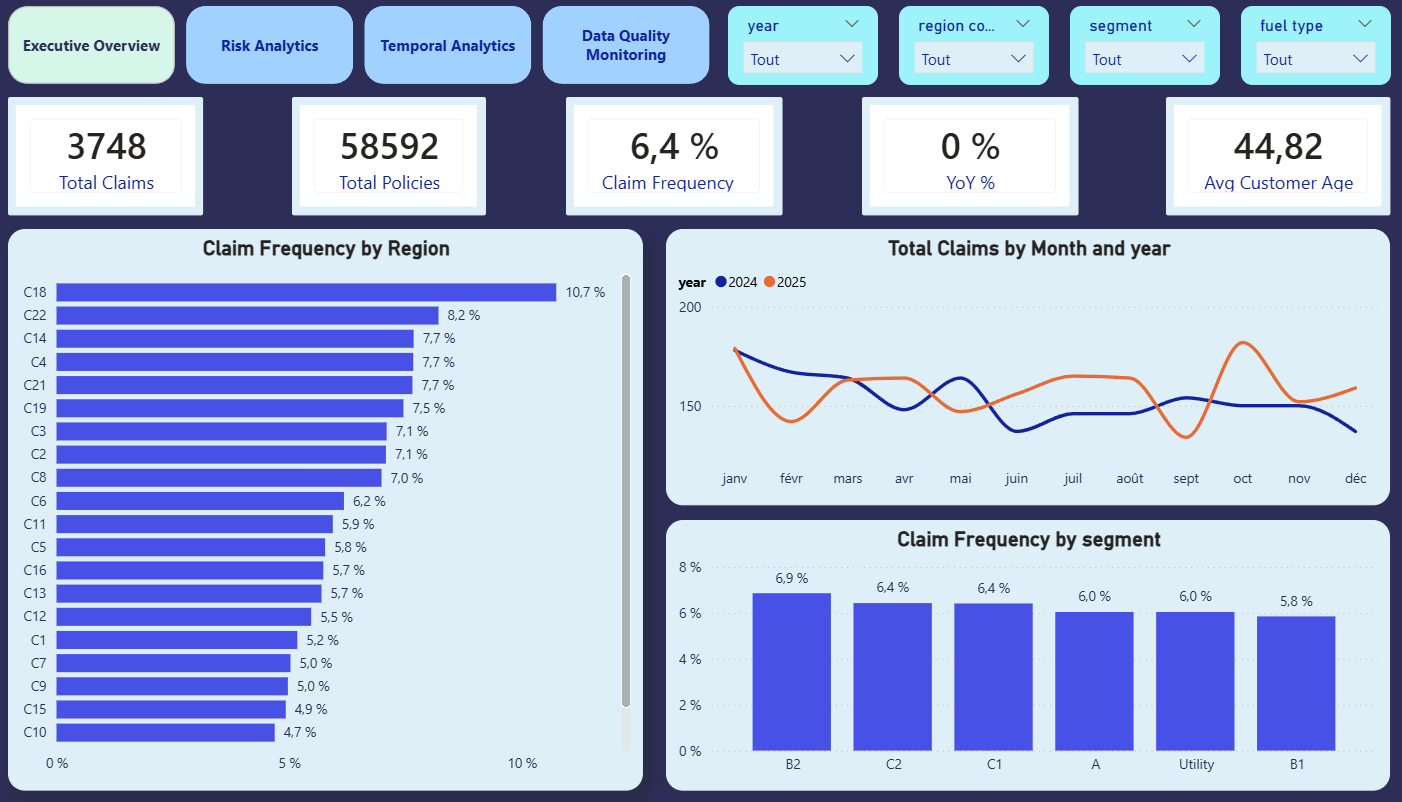

Layout of this report page (visuals, bound fields, positions):
{"tool":"powerbi","page":{"name":"Executive Overview","canvas":[1280,720],"ordinal":0},"visuals":[{"type":"cardVisual","fields":{"Data":["_Mesures.Avg Customer Age"]},"box":[1058.1,91.1,198.6,104.6],"z":0},{"type":"cardVisual","fields":{"Data":["_Mesures.YoY %"]},"box":[788.3,91.1,191.9,104.6],"z":1000},{"type":"cardVisual","fields":{"Data":["_Mesures.Total Claims"]},"box":[31,91.1,173.4,104.6],"z":2000},{"type":"clusteredBarChart","title":"Claim Frequency by Region","fields":{"Category":["wh_dim_region.region_code"],"Y":["_Mesures.Claim Frequency"]},"box":[31,208.3,563,498],"z":3000},{"type":"cardVisual","fields":{"Data":["_Mesures.Total Policies"]},"box":[282.5,91.1,171.5,104.6],"z":4000},{"type":"cardVisual","fields":{"Data":["_Mesures.Claim Frequency"]},"box":[526.1,91.1,191.9,104.6],"z":5000},{"type":"clusteredColumnChart","title":"Claim Frequency by segment","fields":{"Category":["wh_dim_segment.segment"],"Y":["_Mesures.Claim Frequency"]},"box":[614.3,466.1,642.4,240.3],"z":6000},{"type":"lineChart","title":"Total Claims by Month and year","fields":{"Category":["wh_dim_date.Month Name"],"Y":["_Mesures.Total Claims"],"Series":["wh_dim_date.year"]},"box":[614.3,208.3,642.4,245.1],"z":7000},{"type":"slicer","fields":{"Values":["wh_dim_date.year"]},"box":[669.6,10.7,132.7,69.8],"z":8000},{"type":"slicer","fields":{"Values":["wh_dim_region.region_code"]},"box":[821,10.7,132.7,69.8],"z":9000},{"type":"slicer","fields":{"Values":["wh_dim_segment.segment"]},"box":[972.5,10.7,132.7,69.8],"z":10000},{"type":"slicer","fields":{"Values":["wh_dim_fuel.fuel_type"]},"box":[1124,10.7,132.7,69.8],"z":11000},{"type":"pageNavigator","box":[31,10.7,624,69.8],"z":12000}]}

Visuals, with their boxes in screenshot pixels (x1, y1, x2, y2), scaled from the page's 1280x720 canvas onto the 1402x802 screenshot:
cardVisual - _Mesures.Avg Customer Age: pyautogui.locateOnScreen(1159, 101, 1376, 218)
cardVisual - _Mesures.YoY %: pyautogui.locateOnScreen(863, 101, 1074, 218)
cardVisual - _Mesures.Total Claims: pyautogui.locateOnScreen(34, 101, 224, 218)
"Claim Frequency by Region" clusteredBarChart: pyautogui.locateOnScreen(34, 232, 651, 787)
cardVisual - _Mesures.Total Policies: pyautogui.locateOnScreen(309, 101, 497, 218)
cardVisual - _Mesures.Claim Frequency: pyautogui.locateOnScreen(576, 101, 786, 218)
"Claim Frequency by segment" clusteredColumnChart: pyautogui.locateOnScreen(673, 519, 1376, 787)
"Total Claims by Month and year" lineChart: pyautogui.locateOnScreen(673, 232, 1376, 505)
slicer - wh_dim_date.year: pyautogui.locateOnScreen(733, 12, 879, 90)
slicer - wh_dim_region.region_code: pyautogui.locateOnScreen(899, 12, 1045, 90)
slicer - wh_dim_segment.segment: pyautogui.locateOnScreen(1065, 12, 1211, 90)
slicer - wh_dim_fuel.fuel_type: pyautogui.locateOnScreen(1231, 12, 1376, 90)
pageNavigator: pyautogui.locateOnScreen(34, 12, 717, 90)
